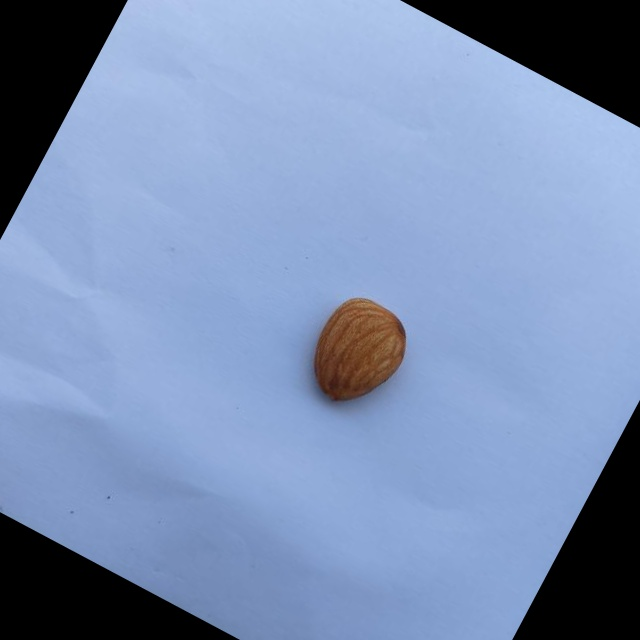grade1: (283, 276, 429, 431)
